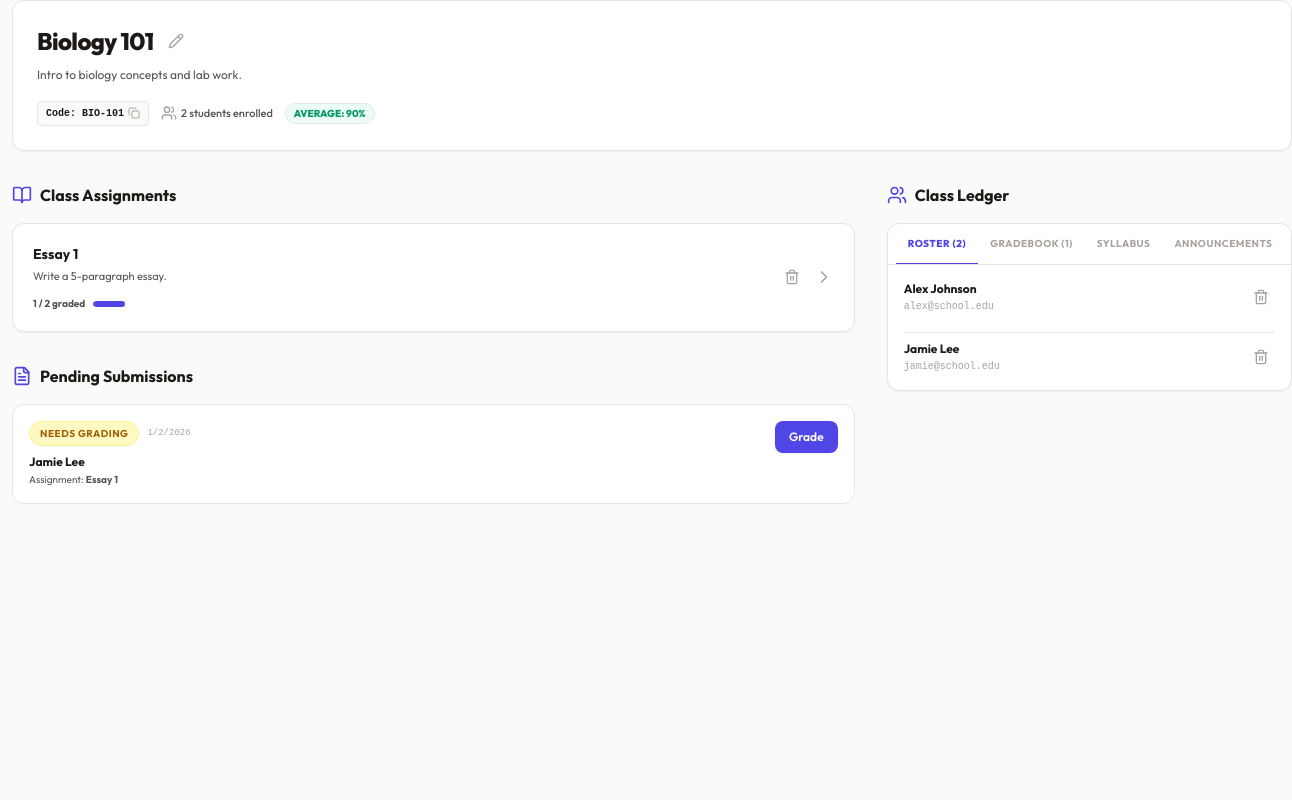
Scenario: TeacherClassDetailPage › shows the generic fallback error message when updating class info rejects with a non-Error
Expected: the heading "Biology 101" is shown, [37,25,154,57]
Step 1. Click the button titled "Edit class details" → (176, 41), box [162,27,190,55]
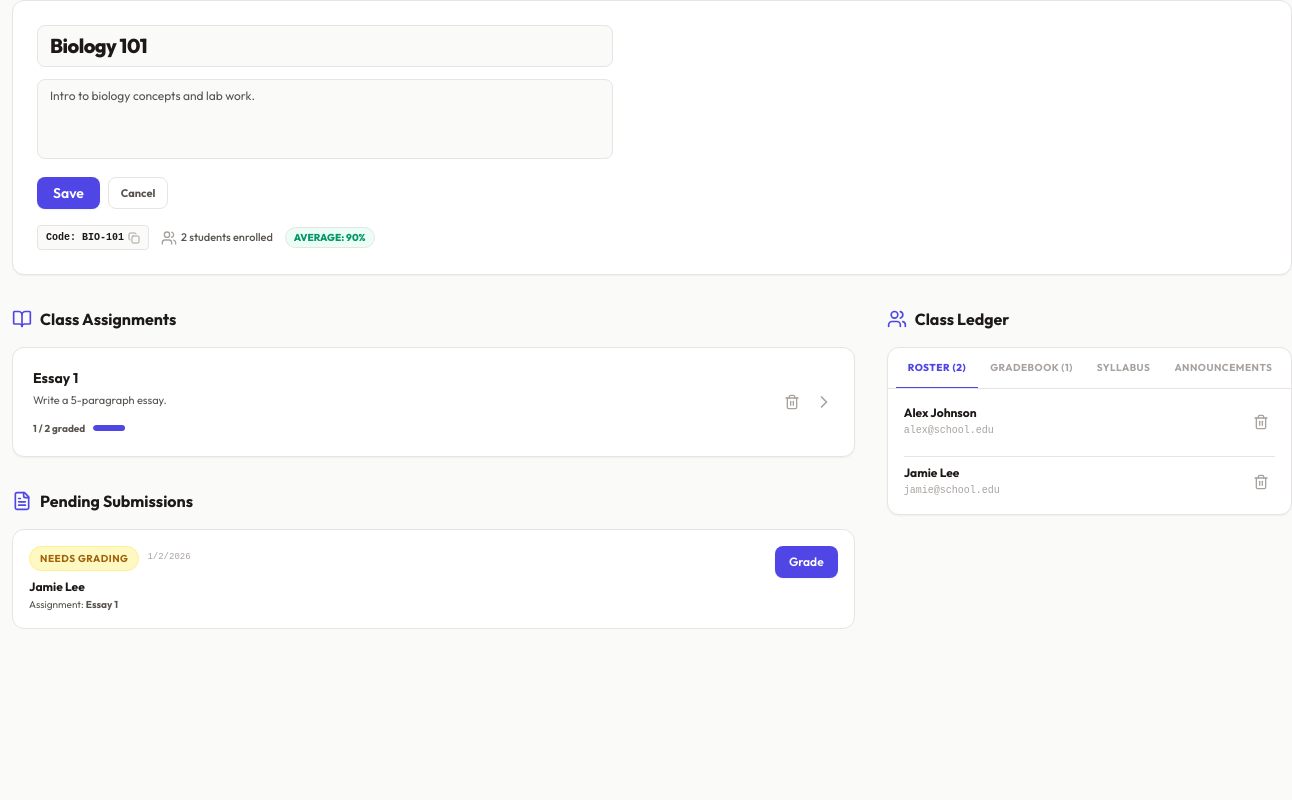
Step 2. Click the button "Save" → (68, 193), box [37,177,100,209]
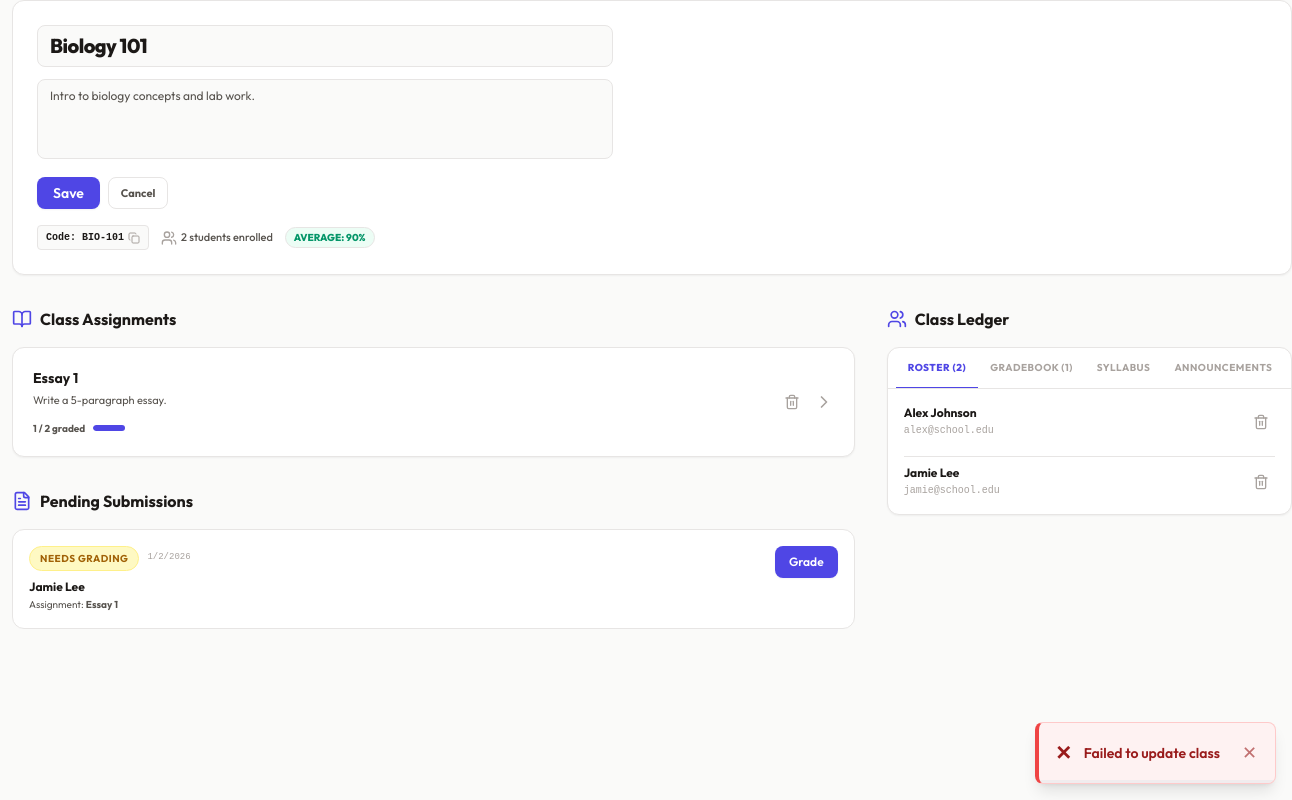
Result: the text "Failed to update class" is shown at [1084,743,1228,763]
